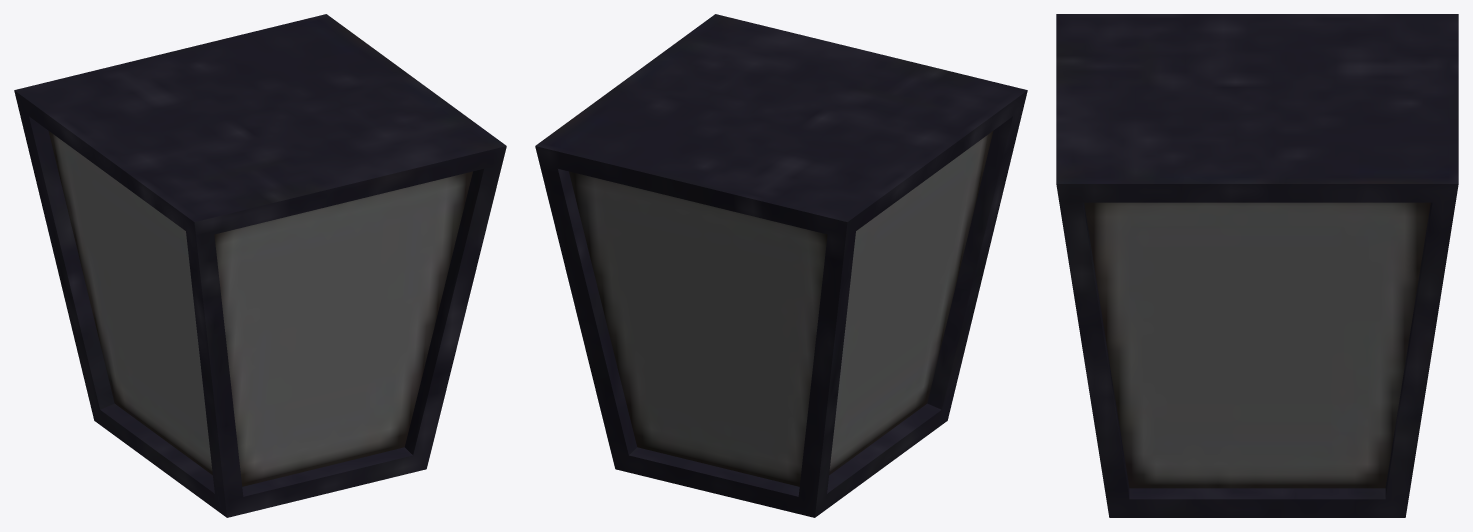
Rendered from lampostglass.obj.
3 renders of one model, left to right at view 1: azimuth 30°, elevation 25°; view 2: azimuth 150°, elevation 25°; view 3: azimuth 270°, elevation 25°, orthographic. The views are drawn at different scales.
Visible parts, largest first — view 1: defaultMaterial002; view 2: defaultMaterial002; view 3: defaultMaterial002.
Boxes of the visible parts, x1,y1,x2,y2 form: defaultMaterial002: (14, 14, 506, 517); defaultMaterial002: (535, 14, 1027, 517); defaultMaterial002: (1056, 14, 1458, 517).
Bounding box in the file's own units: 3.51 × 3.51 × 3.51.
1 material, 1 textured.
